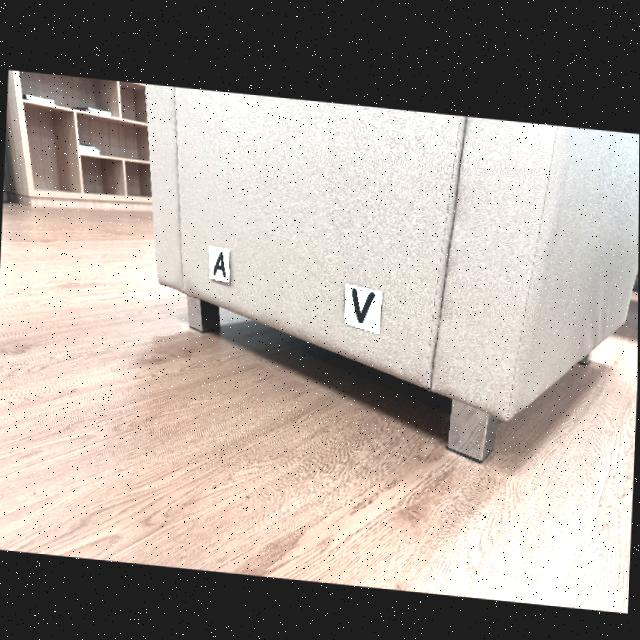A: (213, 248, 226, 273)
V: (351, 283, 375, 319)
